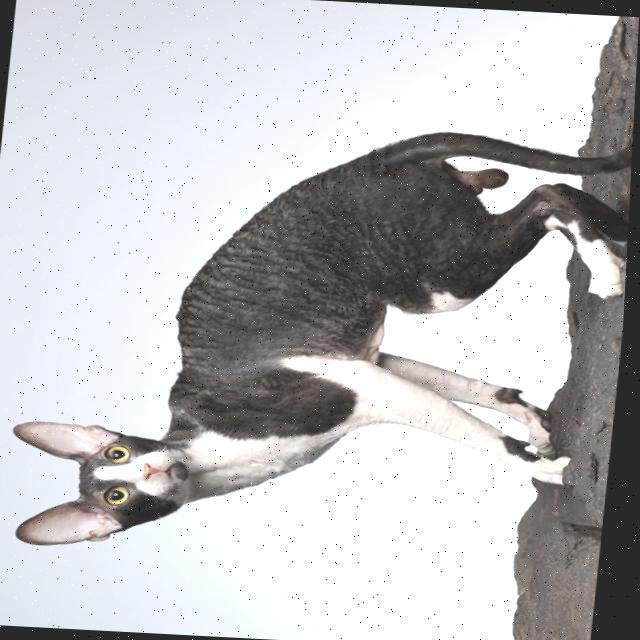Cornish Rex: (0, 38, 638, 576)
